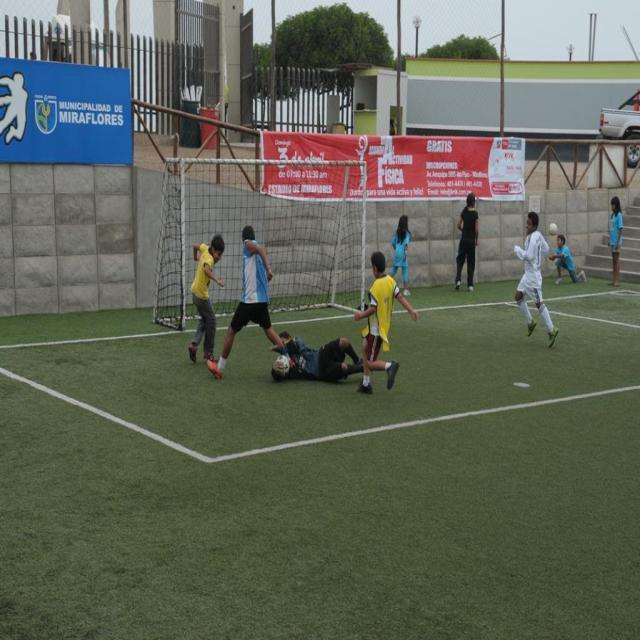ball: (276, 352, 288, 377)
